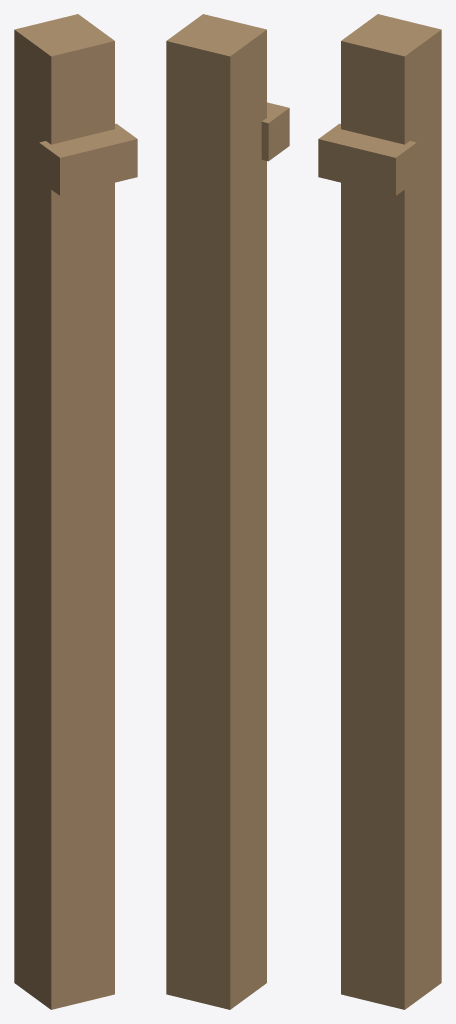
Rendered from timber_post.glb.
3 views of the same model, side by side, from view 1: azimuth 30°, elevation 25°; view 2: azimuth 150°, elevation 25°; view 3: azimuth 330°, elevation 25° (orthographic).
Parts seen in each view (by area): view 1: timber_post; view 2: timber_post; view 3: timber_post.
Part boxes in pixels (x1,y1,x2,y2): timber_post: [14, 14, 137, 1009]; timber_post: [166, 14, 289, 1009]; timber_post: [318, 14, 441, 1009].
Size of the model in its own units: 0.34 by 4 by 0.4.
